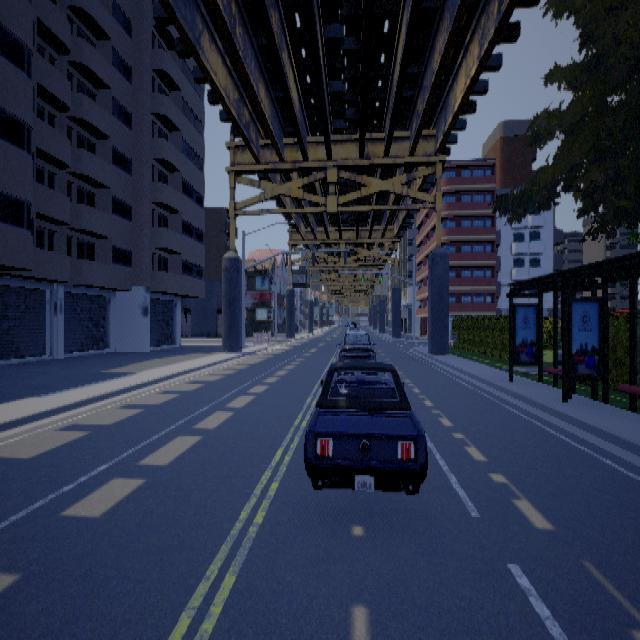green_light: (380, 271, 382, 280), (361, 272, 363, 281)
vehicle: (303, 320, 427, 493)
